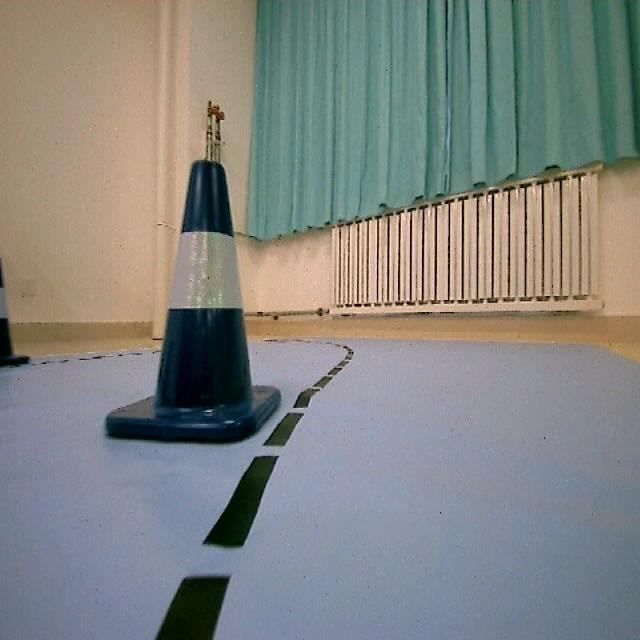obstacle: (89, 158, 257, 448)
